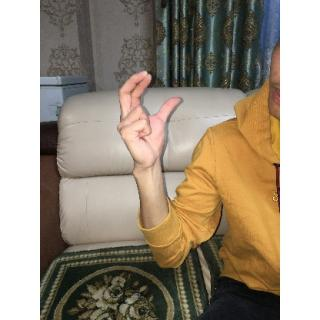DHELL: (111, 64, 187, 180)
